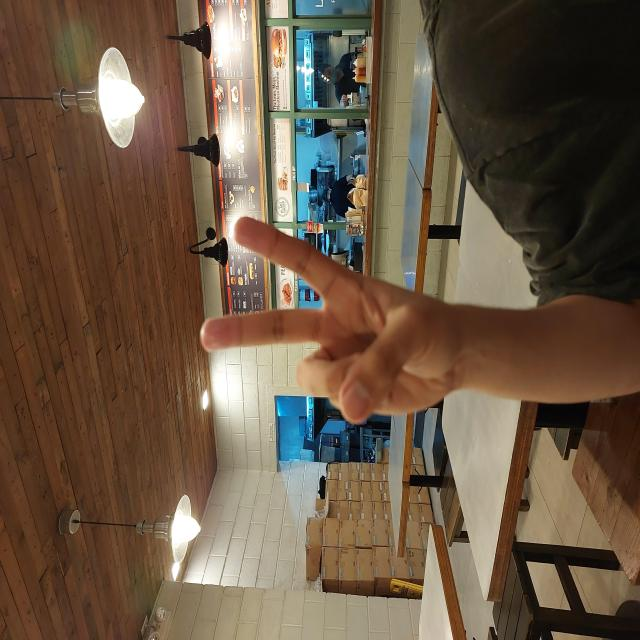V: (215, 198, 426, 462)
